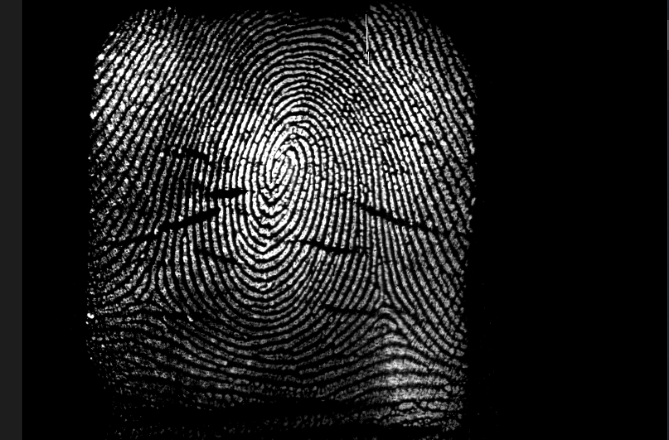deltas: (124, 256, 179, 316), (354, 270, 407, 327)
nucleo: (246, 139, 309, 201)
